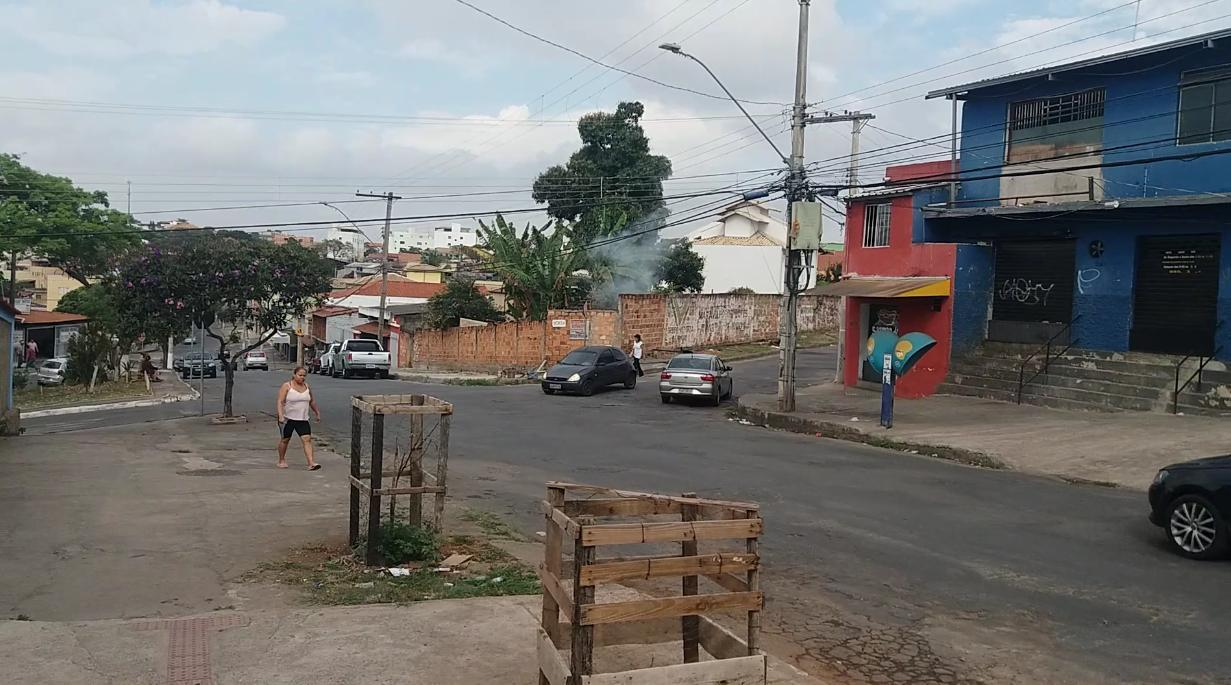Smoke: (585, 216, 673, 294)
